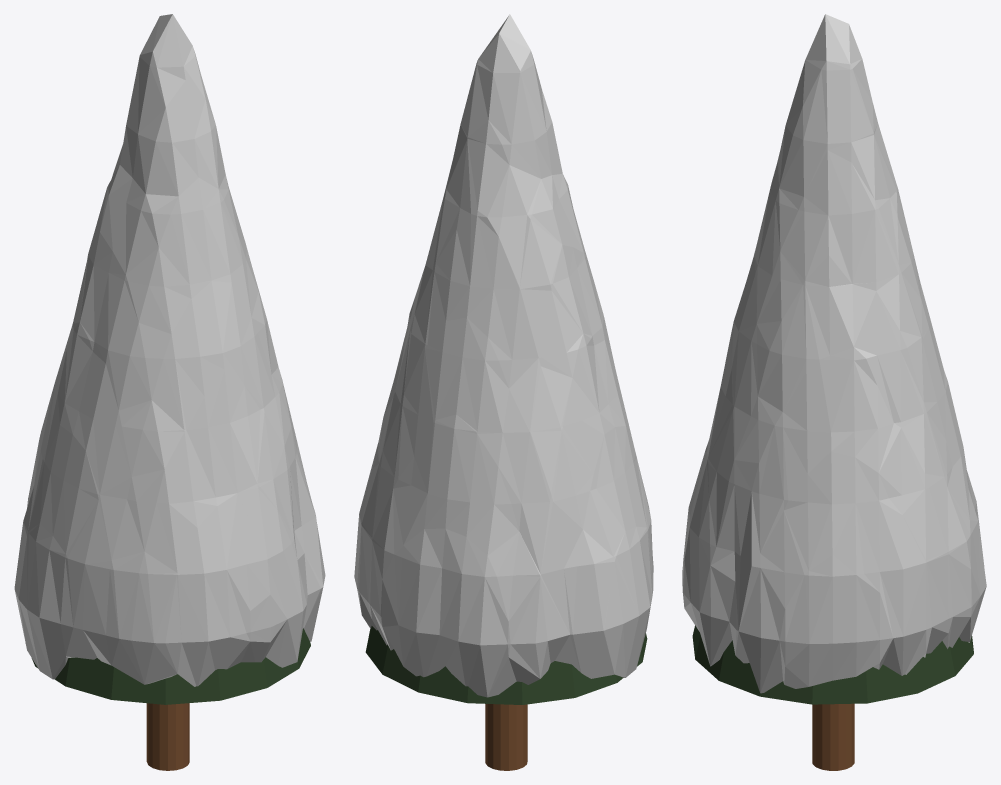
The model's file is tree.glb.
The picture shows the model from 3 angles, left to right: view 1: azimuth 30°, elevation 25°; view 2: azimuth 150°, elevation 25°; view 3: azimuth 270°, elevation 25°; orthographic projection.
Visible parts, largest first — view 1: snow, tree, trump; view 2: snow, tree, trump; view 3: snow, tree, trump.
Part boxes in pixels (x1=…): snow: x1=14, y1=14, x2=325, y2=686; tree: x1=31, y1=628, x2=310, y2=704; trump: x1=146, y1=703, x2=189, y2=770; snow: x1=354, y1=14, x2=653, y2=697; tree: x1=365, y1=626, x2=647, y2=704; trump: x1=485, y1=704, x2=527, y2=770; snow: x1=682, y1=14, x2=986, y2=693; tree: x1=692, y1=625, x2=973, y2=704; trump: x1=812, y1=703, x2=854, y2=770.
Bounding box in the file's own units: 0.9059 × 2.4 × 0.8844.
